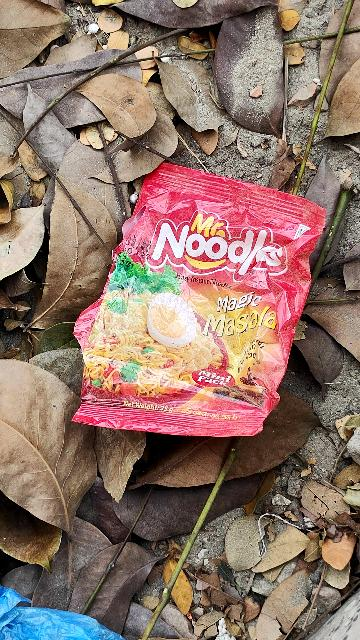packet: (65, 146, 344, 476)
